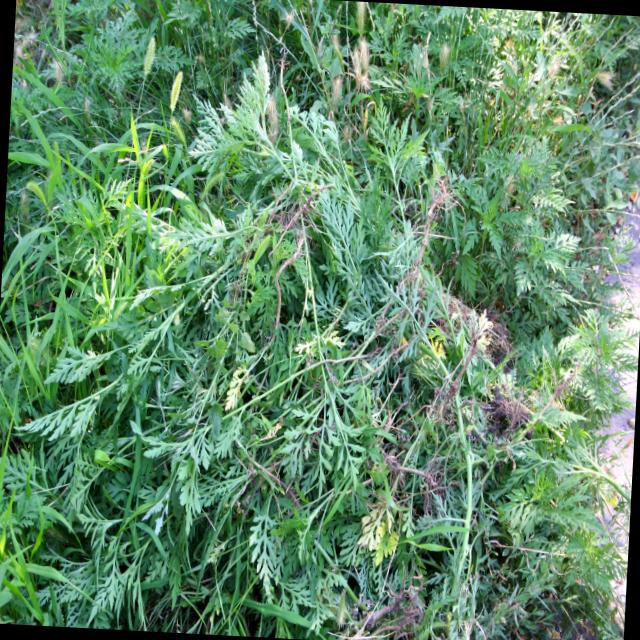ambrosia: (156, 84, 492, 521)
